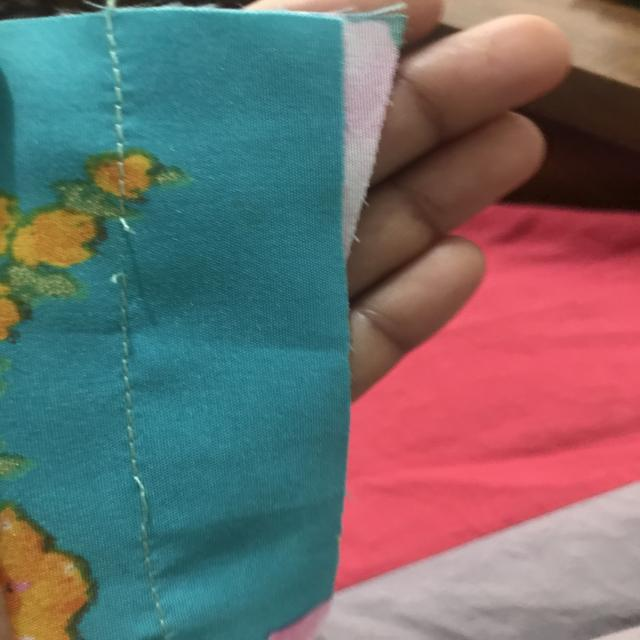broken: (108, 205, 141, 302)
skip: (123, 470, 166, 536)
